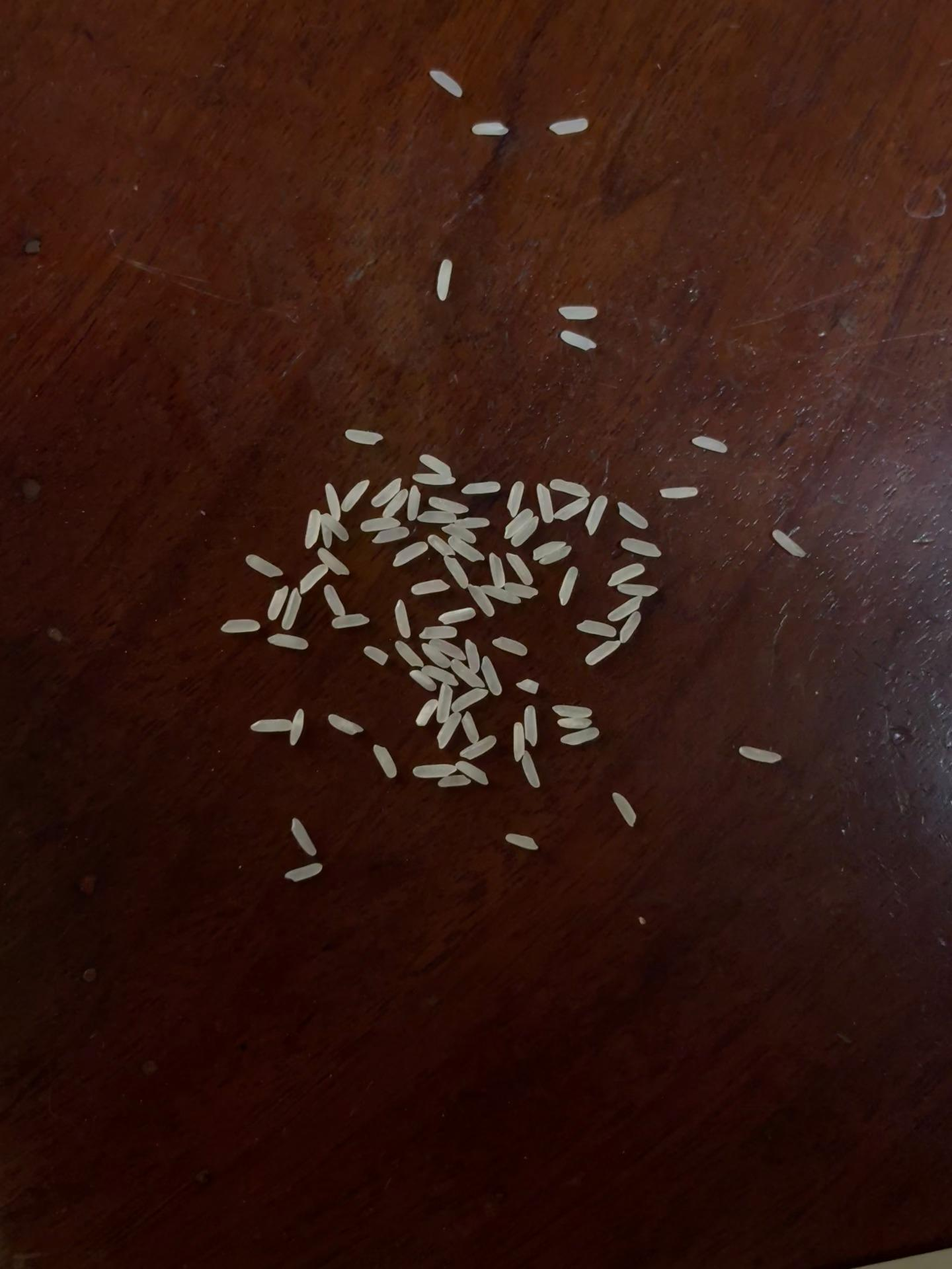Rice-th-y-nh: (450, 659, 485, 689), (280, 588, 305, 630), (518, 705, 543, 747), (435, 711, 462, 749), (467, 583, 496, 618), (607, 595, 643, 623), (448, 535, 484, 563), (460, 735, 497, 762), (509, 516, 540, 548), (340, 479, 370, 512), (317, 547, 350, 577), (291, 818, 317, 856), (245, 553, 283, 579), (428, 637, 467, 662), (392, 541, 428, 568), (298, 563, 328, 595), (585, 495, 609, 535), (505, 552, 534, 585), (773, 530, 807, 558), (429, 69, 463, 97), (611, 791, 637, 827), (371, 477, 402, 507), (503, 508, 533, 539), (584, 640, 621, 665), (480, 656, 503, 696), (443, 555, 470, 589), (420, 663, 458, 687), (607, 563, 645, 587), (480, 584, 521, 606), (434, 683, 456, 724), (452, 687, 488, 712), (557, 566, 580, 605), (456, 760, 490, 786), (373, 744, 398, 779), (507, 722, 530, 760), (394, 641, 425, 669), (420, 642, 452, 669), (617, 502, 649, 529), (434, 259, 455, 300), (519, 751, 542, 788), (555, 496, 589, 521), (302, 509, 323, 549), (266, 585, 289, 621), (402, 485, 425, 521), (461, 638, 484, 674), (621, 538, 662, 558), (420, 454, 454, 478), (327, 713, 364, 735), (322, 513, 350, 542), (382, 489, 409, 519), (550, 478, 590, 498), (428, 495, 468, 515), (322, 584, 346, 617), (412, 762, 456, 780), (560, 726, 599, 746), (323, 482, 343, 521), (267, 632, 308, 651), (617, 580, 658, 599), (442, 522, 477, 544), (577, 619, 617, 638), (536, 483, 555, 523), (505, 481, 526, 517), (393, 599, 412, 638), (619, 611, 642, 643), (250, 717, 293, 734), (288, 708, 307, 746), (492, 636, 528, 656), (560, 330, 596, 350), (538, 545, 572, 566), (285, 863, 322, 882), (372, 526, 409, 545), (411, 578, 450, 596), (331, 612, 370, 630), (487, 553, 507, 588), (532, 540, 567, 560), (739, 746, 780, 763), (460, 711, 481, 744), (412, 471, 455, 487), (504, 580, 538, 600), (439, 607, 476, 625), (361, 516, 400, 533), (549, 118, 588, 135), (221, 618, 260, 635), (345, 428, 383, 445), (559, 304, 597, 321), (415, 699, 438, 727), (427, 534, 455, 557), (472, 120, 509, 137), (505, 832, 538, 851), (552, 703, 591, 719), (409, 670, 437, 692), (692, 436, 728, 453), (418, 509, 456, 525), (557, 715, 592, 732), (419, 625, 457, 640), (462, 481, 500, 496), (363, 645, 389, 665), (659, 486, 698, 499), (454, 516, 490, 530), (438, 774, 470, 788), (319, 523, 335, 549), (516, 678, 540, 695)
